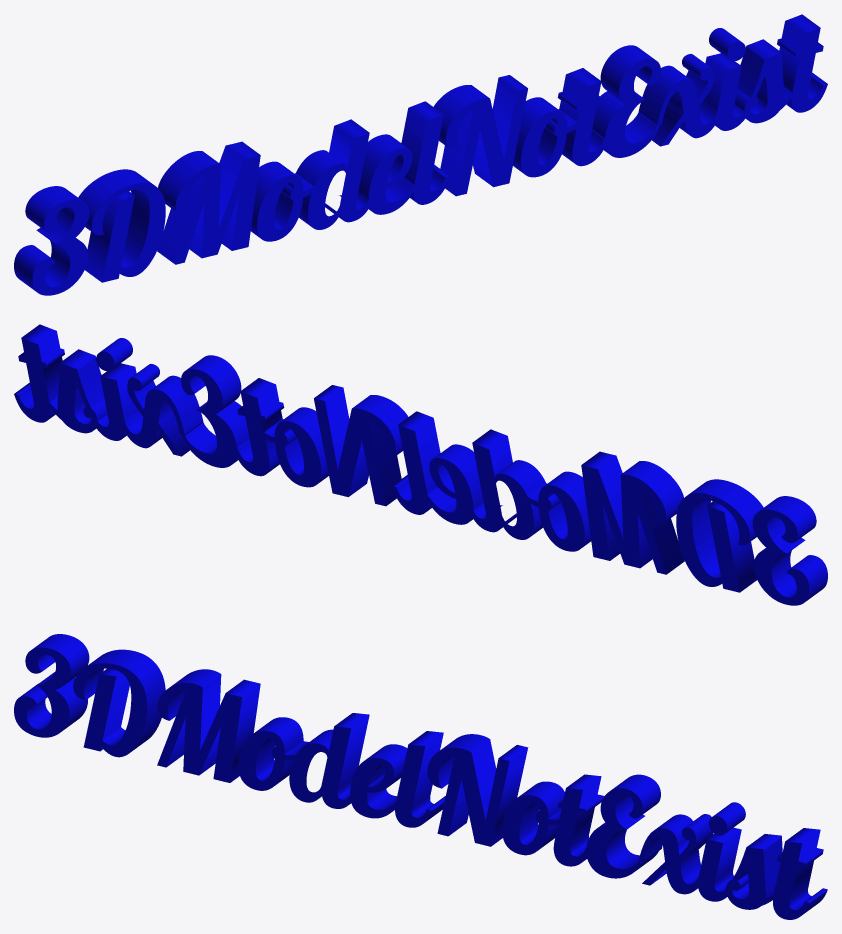
File: 3DModelNotExists.glb
The picture shows the model from 3 angles, top to bottom: view 1: azimuth 30°, elevation 25°; view 2: azimuth 150°, elevation 25°; view 3: azimuth 330°, elevation 25°; orthographic projection.
Parts seen in each view (by area): view 1: Text; view 2: Text; view 3: Text.
Part boxes in pixels (bbox=[...]): Text: bbox=[14, 14, 827, 295]; Text: bbox=[14, 324, 827, 605]; Text: bbox=[14, 634, 827, 919].
Size of the model in its own units: 1.49 by 0.1669 by 0.06.
